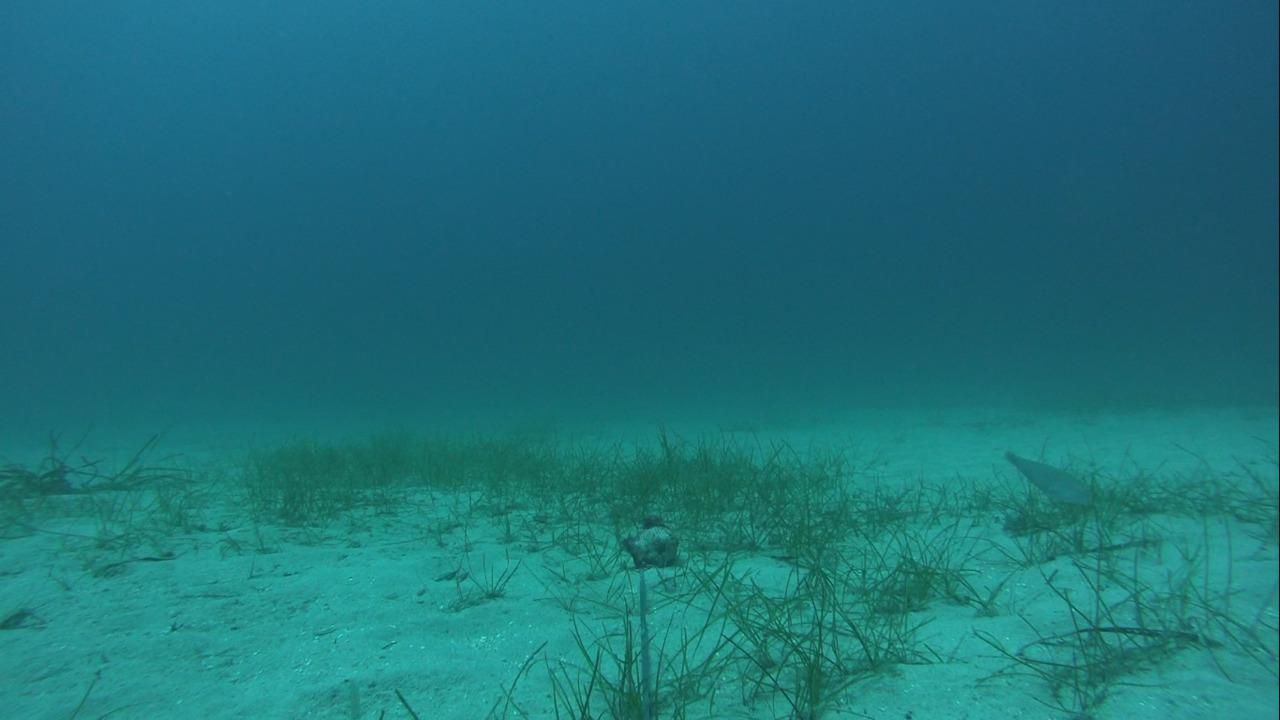raor: (991, 442, 1098, 515)
